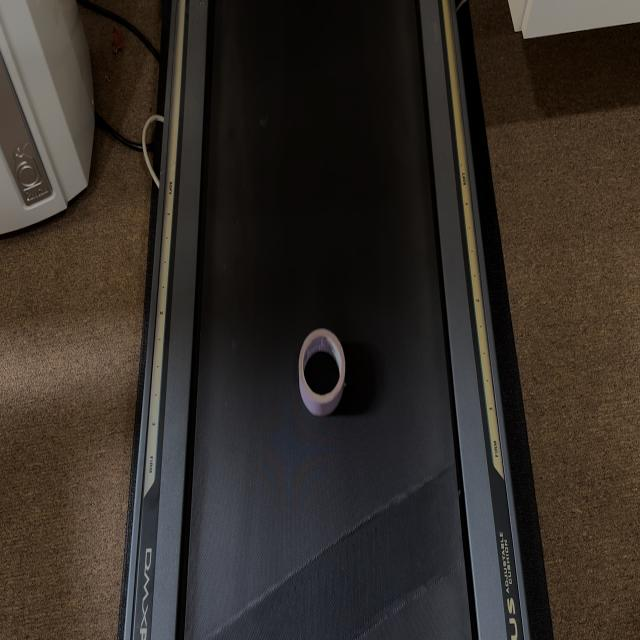Trash: (298, 330, 346, 416)
